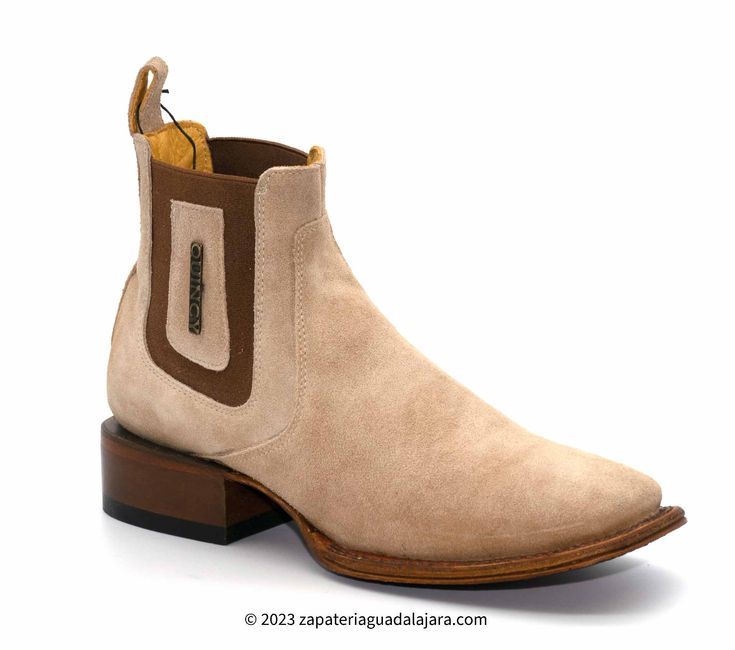gamuza: (107, 57, 662, 565)
